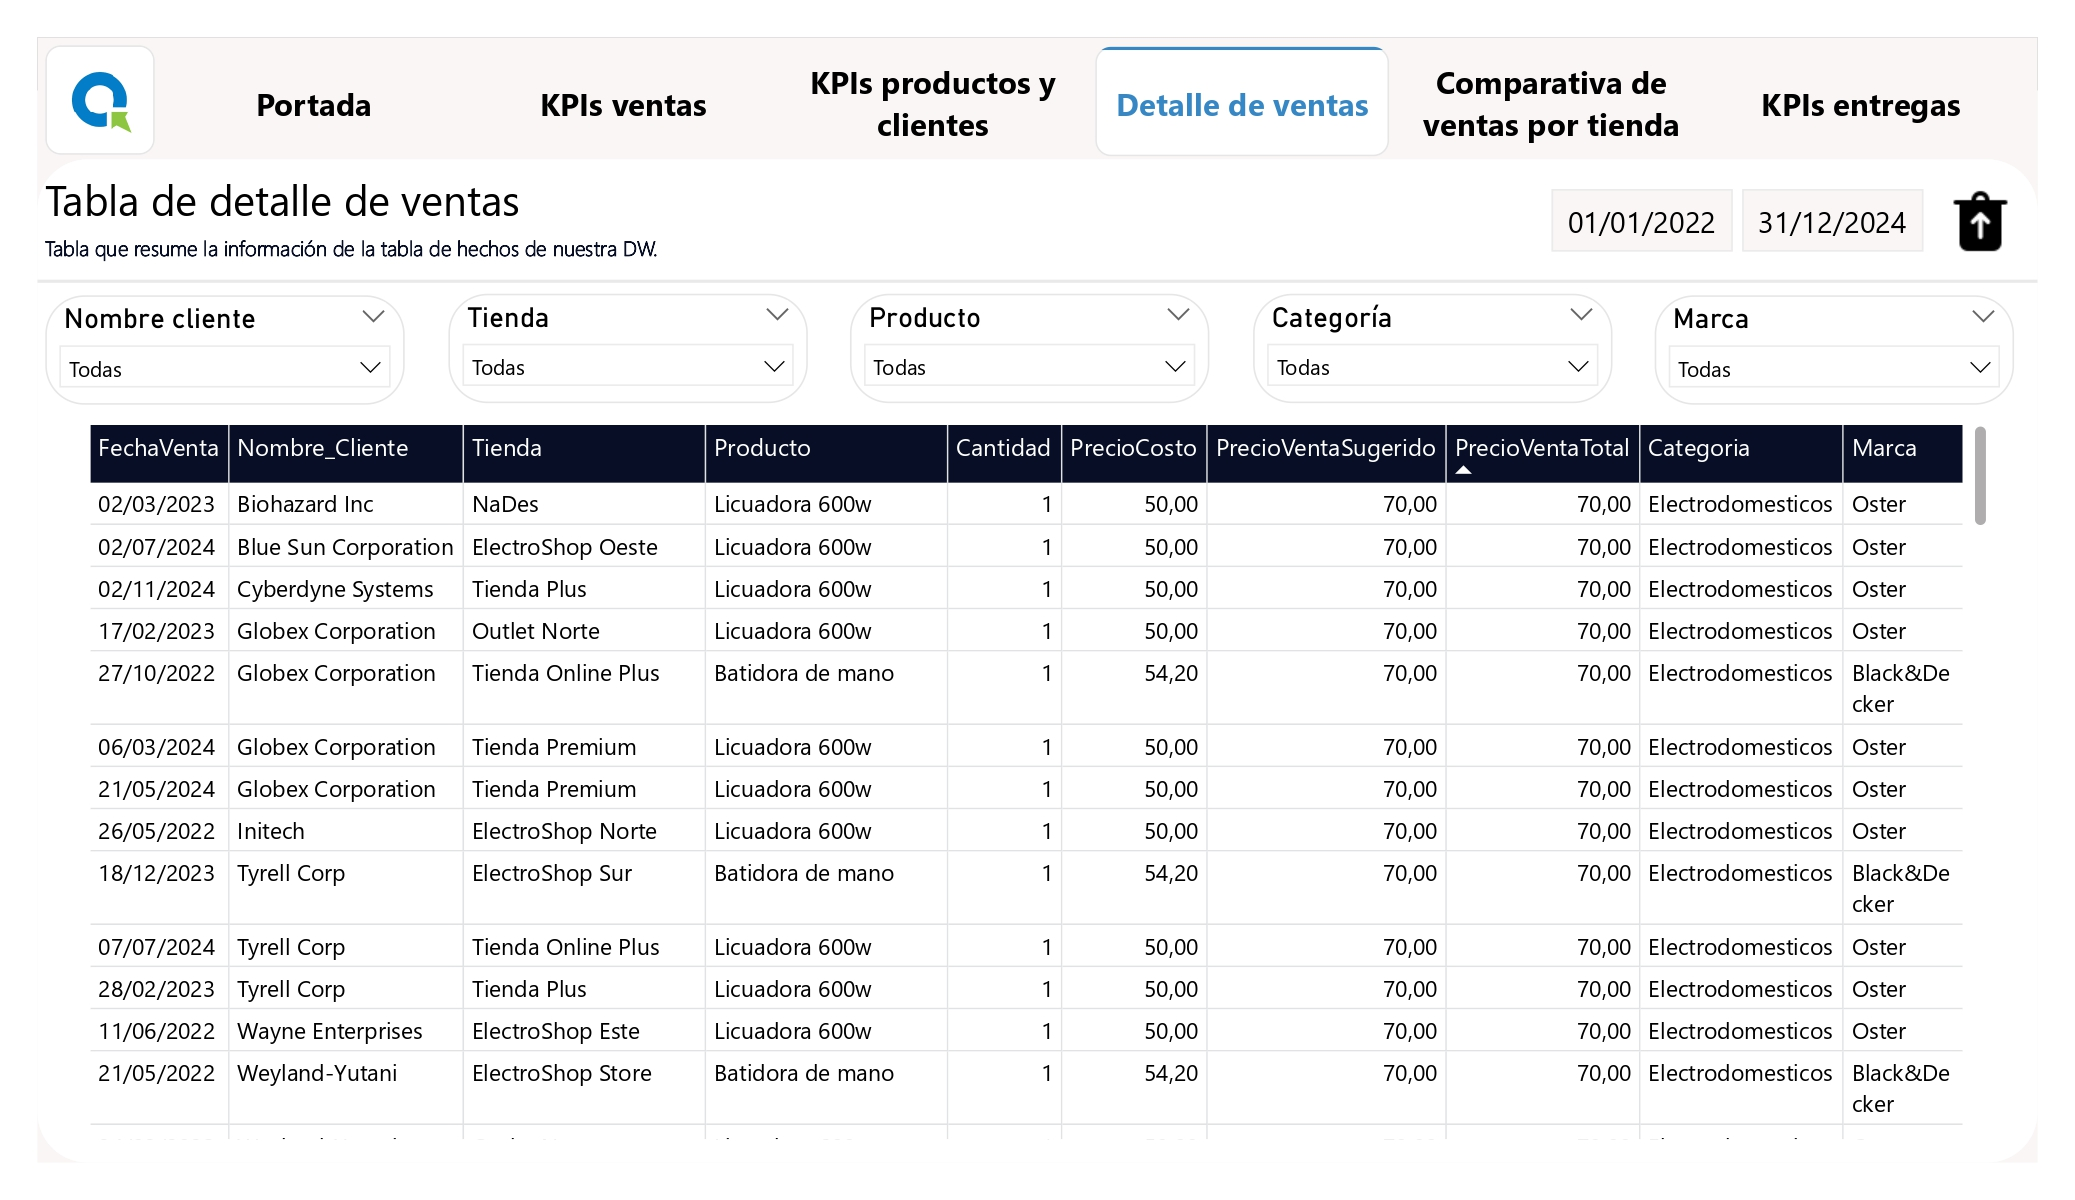

This screenshot's page, from the dashboard's own definition file:
{"tool":"powerbi","page":{"name":"Detalle de ventas","canvas":[1280,720],"ordinal":3},"visuals":[{"type":"shape","box":[0,78.3,1280,641.7],"z":0},{"type":"pageNavigator","box":[82.7,5.8,1183.1,70],"z":1000},{"type":"image","box":[5.4,5.4,70,70],"z":2000},{"type":"textbox","title":"Tabla de detalle de ventas","box":[0,84.6,810,83.1],"z":3000},{"type":"shape","box":[0,150,1280,11.7],"z":4000},{"type":"slicer","fields":{"Values":["Dim_Producto.Categoria"]},"box":[777.5,164.4,230,70],"z":5000},{"type":"slicer","fields":{"Values":["Dim_Cliente.Nombre_Cliente"]},"box":[5,165,230,70],"z":6000},{"type":"slicer","fields":{"Values":["Dim_Tienda.Tienda"]},"box":[262.5,164.3,230,70],"z":7000},{"type":"tableEx","fields":{"Values":["Fact_Ventas.FechaVenta","Dim_Cliente.RazonSocial","Dim_Tienda.Descripcion","Dim_Producto.Descripcion","Fact_Ventas.Cantidad","Dim_Producto.PrecioCosto","Dim_Producto.PrecioVentaSugerido","Sum(Fact_Ventas.PrecioVenta_Total)","Dim_Producto.Categoria","Dim_Producto.Marca"]},"box":[27.5,243.3,1225,466.7],"z":8000},{"type":"slicer","fields":{"Values":["Dim_Producto.Producto"]},"box":[520,164.4,230,70],"z":9000},{"type":"slicer","fields":{"Values":["Dim_Producto.Marca"]},"box":[1035,165,230,70],"z":10000},{"type":"slicer","fields":{"Values":["Dim_Tiempo.Tiempo_Key"]},"box":[955.8,86.7,261.7,60],"z":11000},{"type":"image","box":[1216.7,91.7,53.3,50],"z":12000}]}

Visuals, with their boxes on the page's 1280x720 design canvas (x1, y1, x2, y2). These are canvas units, not pixel positions in the 2075x1200 screenshot, which may show the page scaled, cropped or inside an application window:
shape: pyautogui.locateOnScreen(0, 78, 1280, 720)
pageNavigator: pyautogui.locateOnScreen(83, 6, 1266, 76)
image: pyautogui.locateOnScreen(5, 5, 75, 75)
"Tabla de detalle de ventas" textbox: pyautogui.locateOnScreen(0, 85, 810, 168)
shape: pyautogui.locateOnScreen(0, 150, 1280, 162)
slicer - Dim_Producto.Categoria: pyautogui.locateOnScreen(778, 164, 1008, 234)
slicer - Dim_Cliente.Nombre_Cliente: pyautogui.locateOnScreen(5, 165, 235, 235)
slicer - Dim_Tienda.Tienda: pyautogui.locateOnScreen(262, 164, 492, 234)
tableEx - Fact_Ventas.FechaVenta x Dim_Cliente.RazonSocial: pyautogui.locateOnScreen(28, 243, 1252, 710)
slicer - Dim_Producto.Producto: pyautogui.locateOnScreen(520, 164, 750, 234)
slicer - Dim_Producto.Marca: pyautogui.locateOnScreen(1035, 165, 1265, 235)
slicer - Dim_Tiempo.Tiempo_Key: pyautogui.locateOnScreen(956, 87, 1218, 147)
image: pyautogui.locateOnScreen(1217, 92, 1270, 142)
